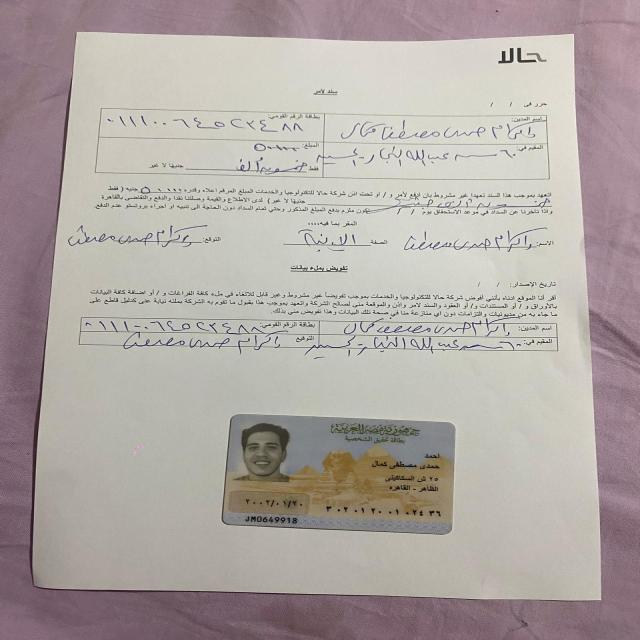id_card: (211, 408, 467, 543)
